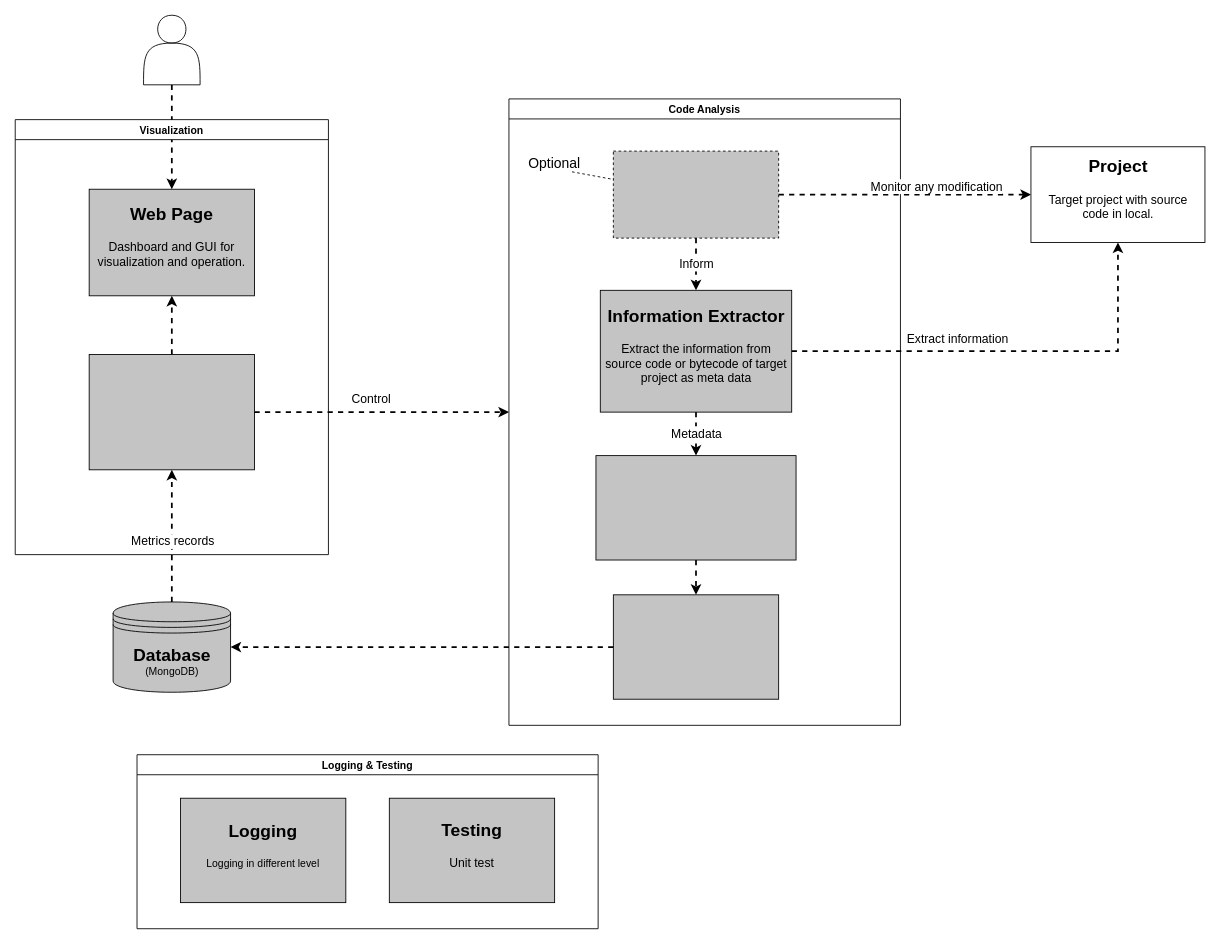
Image size: 1221x944. Some labels were removed from this diagram. The shapes that lost their labels are listed below. From the top down, each one's centre as x and y in pixels, then its label:
[695,194]: Monitor support live monitor to existing project
[171,412]: Web-based Application Web-based dashboard for visualizing all of the records
[695,507]: Metrics Calculator Compute the metrics based on the metadata
[695,646]: Formatting Formatting the generated records for persistence and visualization
